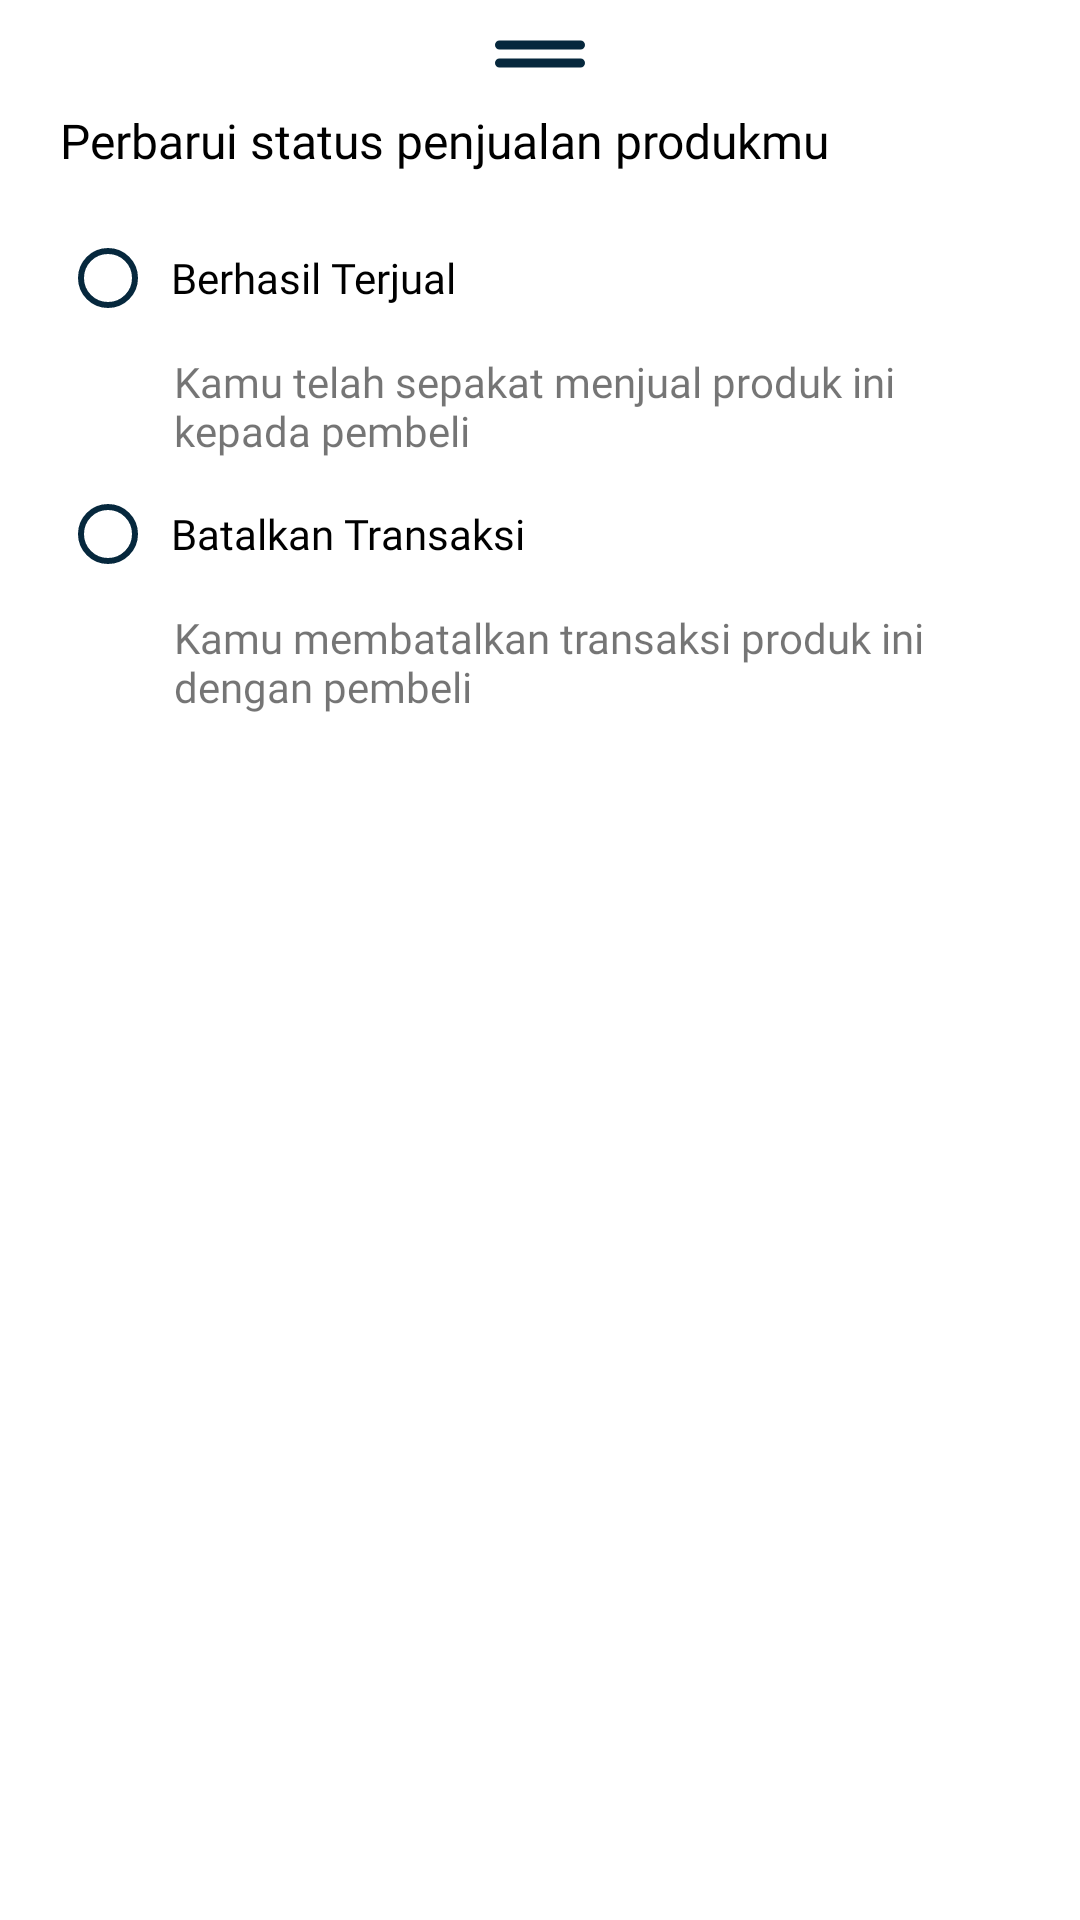

Where to tap for icons on this 1080px x 1920px app screen, as (x=x, y=y):
separator bottom sheet: (x=540, y=54)
